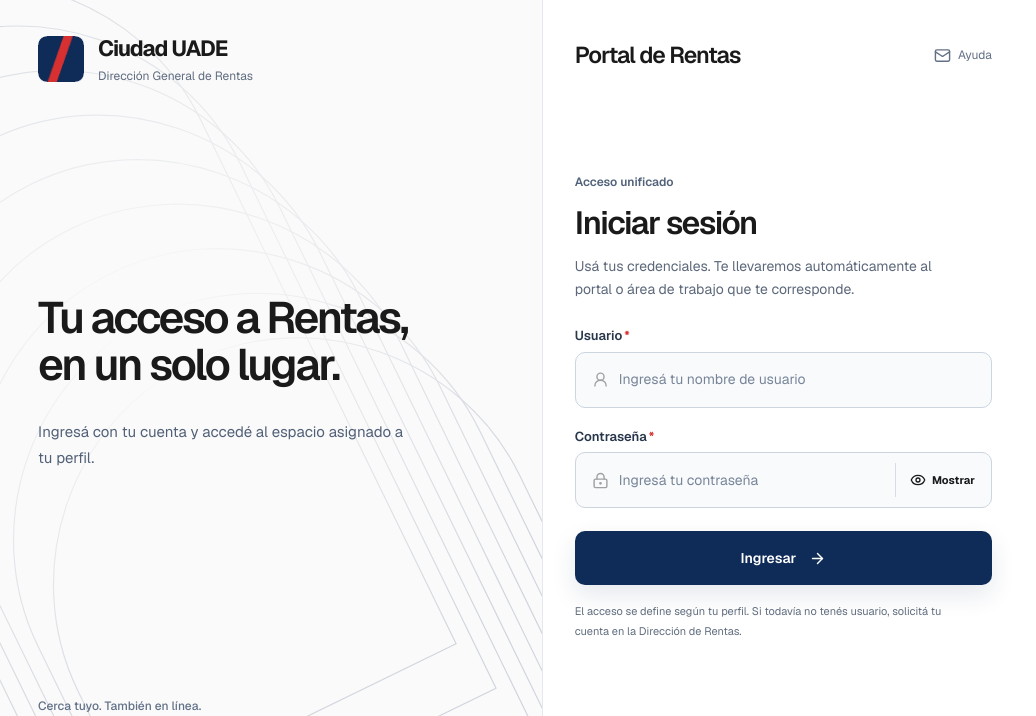
Test: derivación de planes al supervisor › aclara que la derivación no sale del módulo
Type "mrivas" into the field labelled "Usuario*" at coordinates (797, 380), box [619,366,975,394]
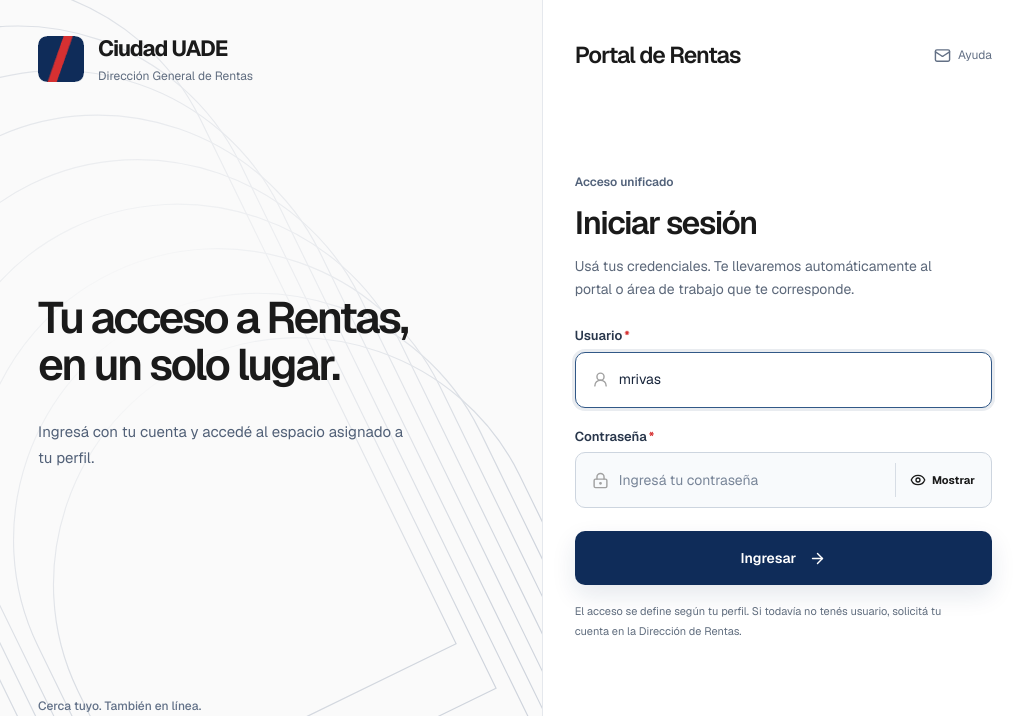
Type "rentas123" into the password field labelled "Contraseña*" at coordinates (750, 480), box [619,466,881,494]
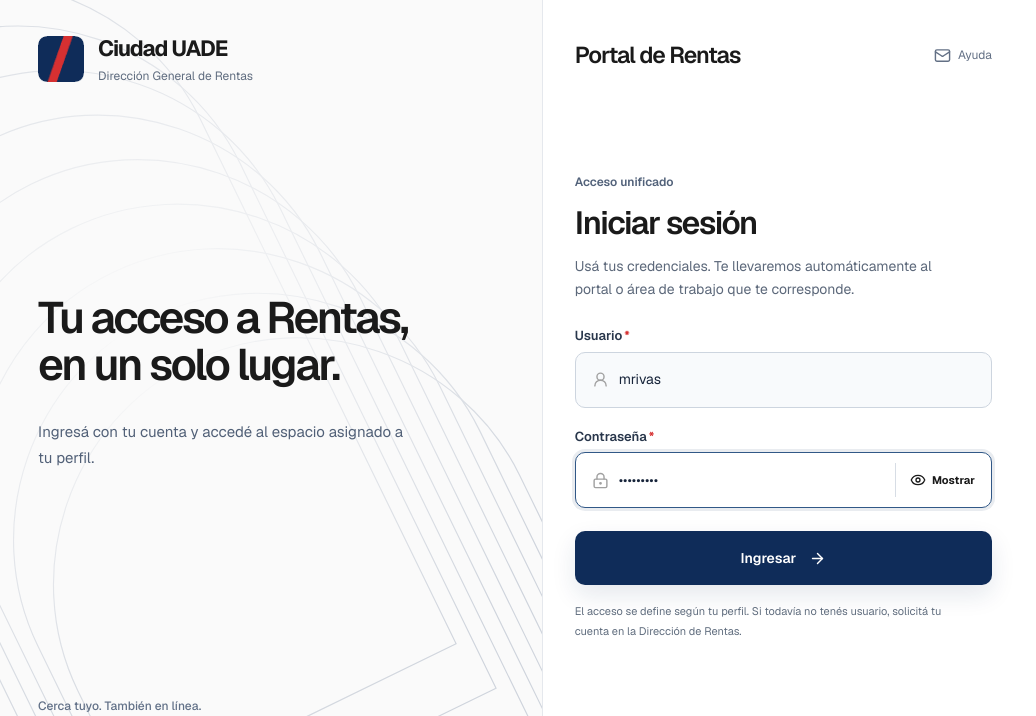
Click the button "Ingresar" at coordinates (783, 558), box [575,531,992,585]
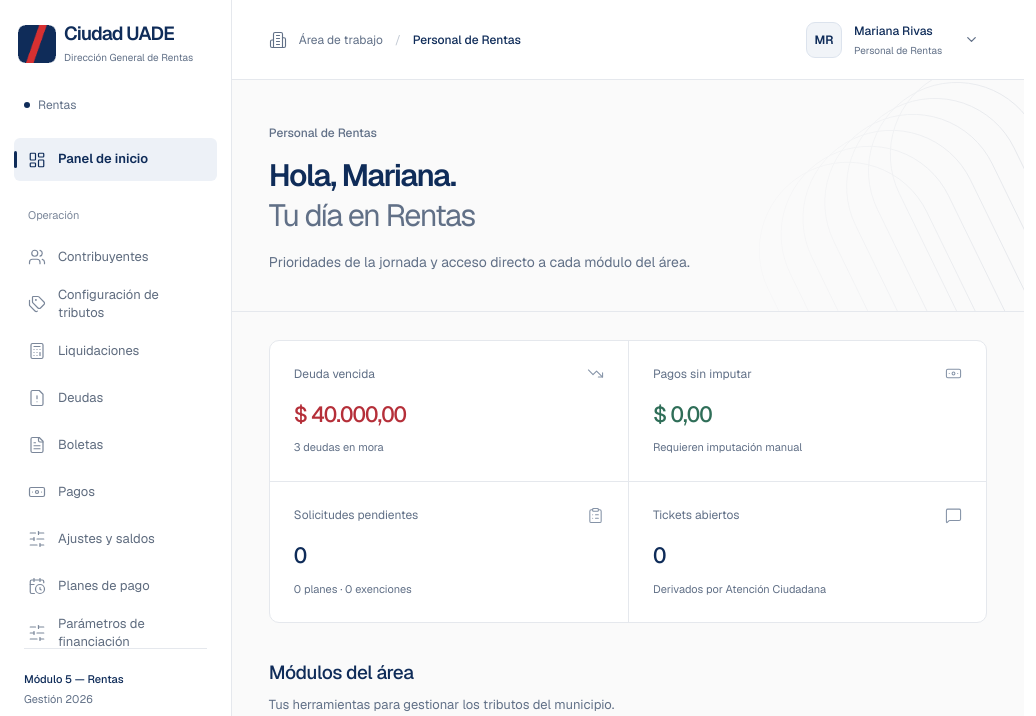
Expected: the heading "Hola, Mariana. Tu día en Rentas" is shown, [269,155,475,235]
Click the link "Planes de pago" at coordinates (89, 586), box [28,577,150,595]
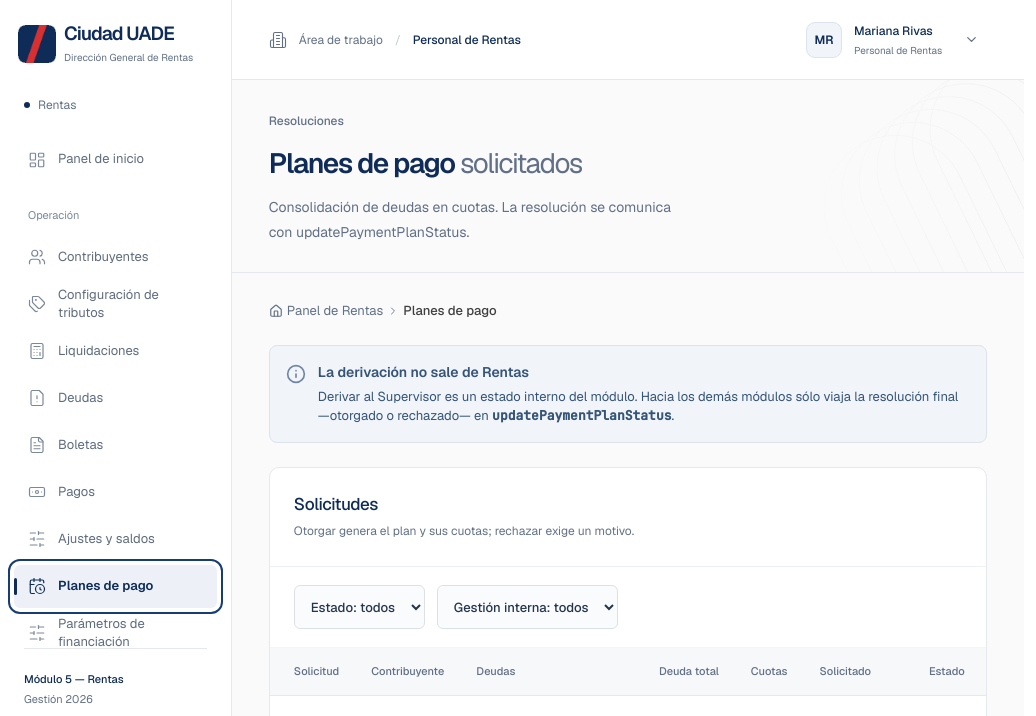
Expected: the navigation bar named "breadcrumb" is shown, [269,301,497,320]
Expected: the text "La derivación no sale de Rentas" is shown, [318,362,529,380]
